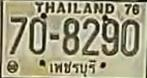0: (120, 18, 139, 56), (28, 16, 46, 54)
2: (82, 17, 99, 55)
7: (9, 16, 27, 54)
8: (62, 17, 78, 54)
9: (101, 17, 120, 55)
PBI: (46, 58, 98, 78)
